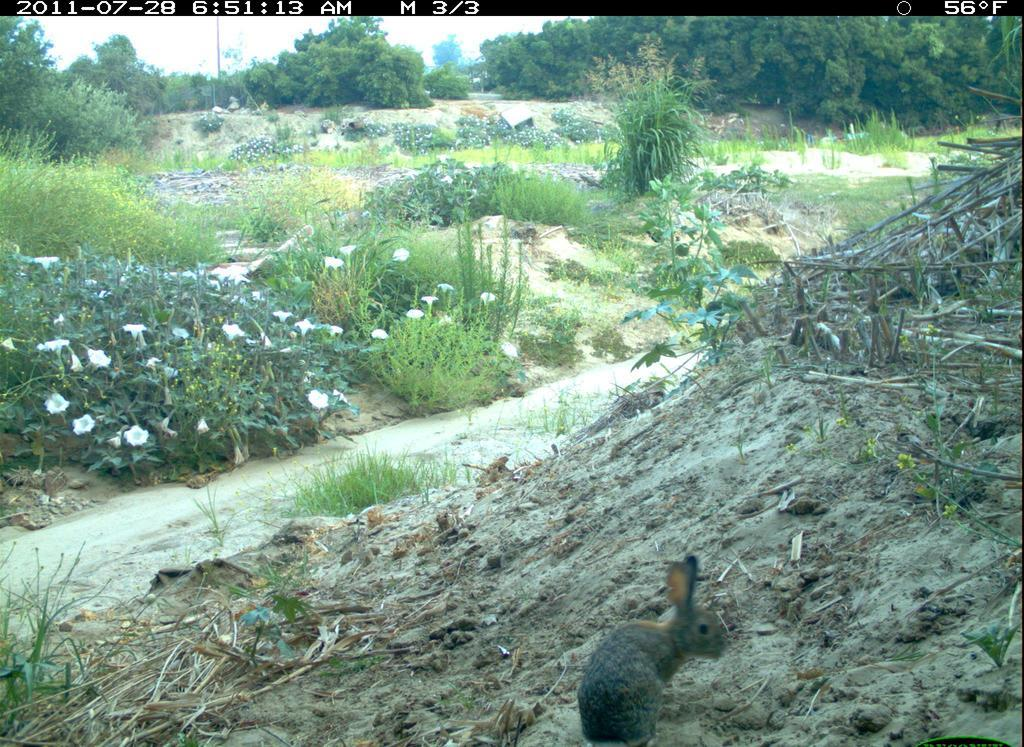rabbit: (574, 550, 731, 745)
